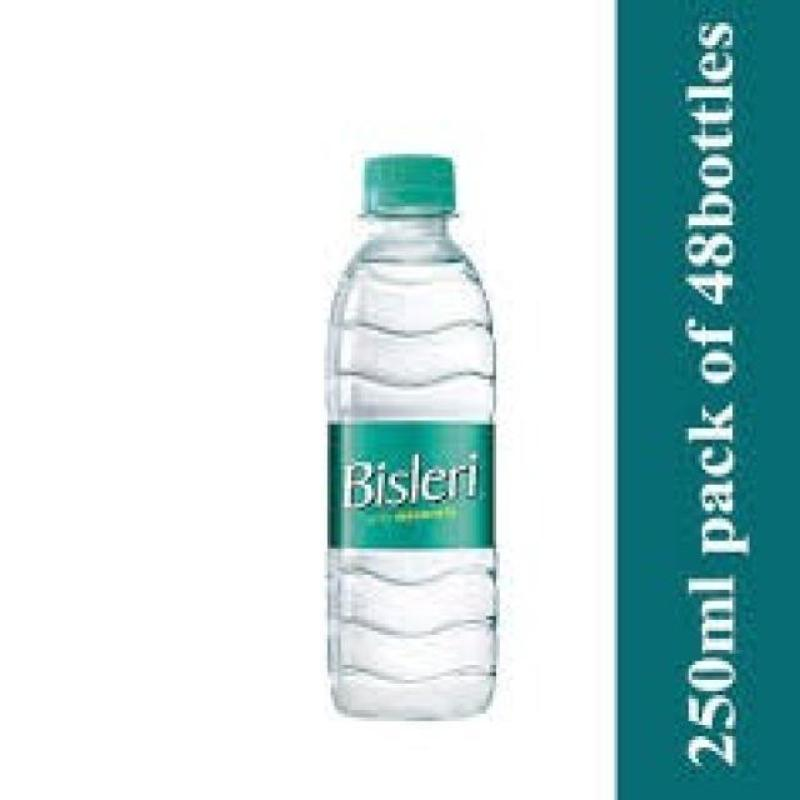botella: (322, 156, 497, 723)
